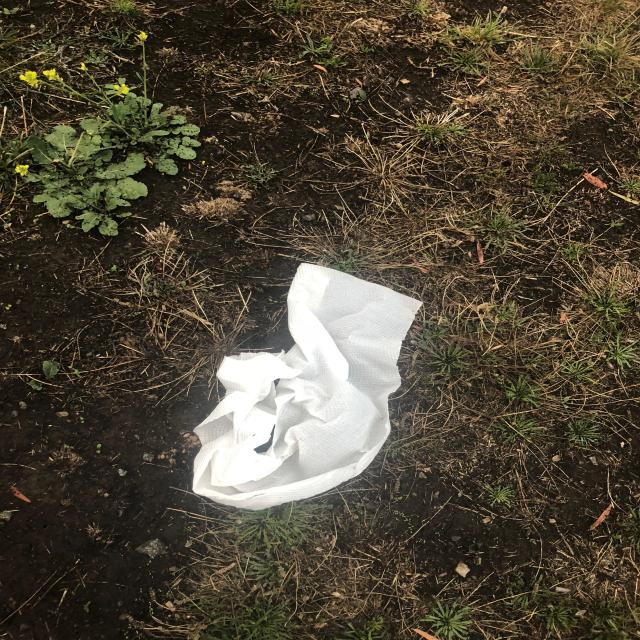litter: (348, 162, 640, 335)
